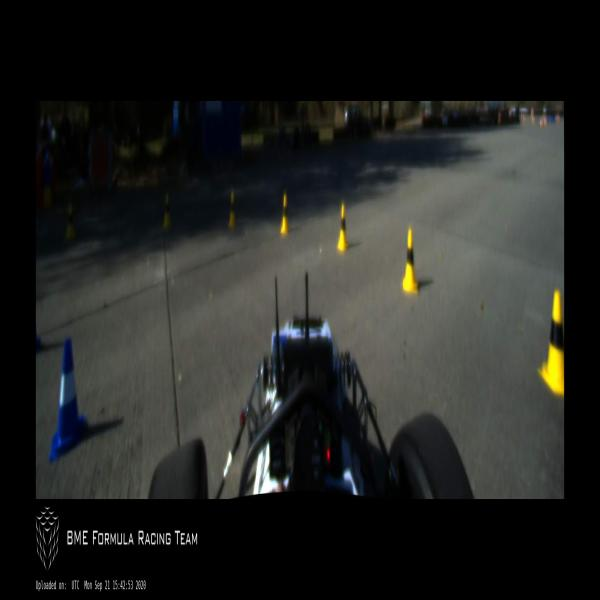blue_cone: (50, 338, 86, 462)
yellow_cone: (537, 288, 564, 394), (402, 229, 419, 296), (336, 204, 348, 252), (280, 194, 290, 236), (64, 204, 76, 239), (228, 191, 237, 229), (162, 195, 172, 229)
